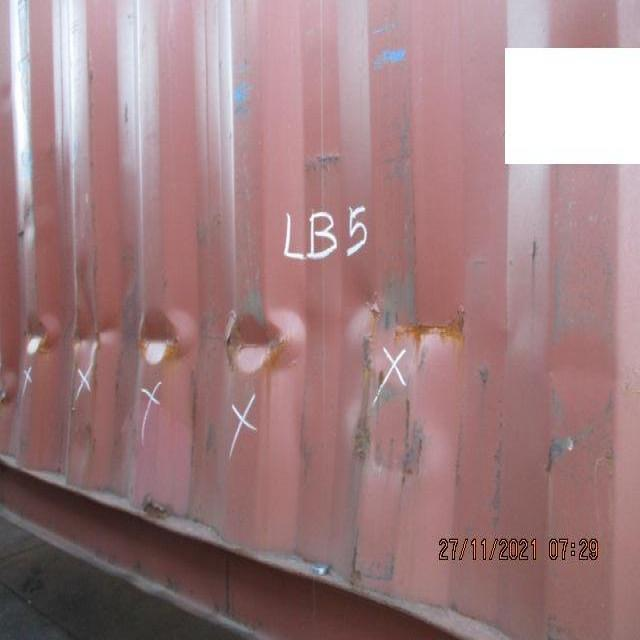Dent: (0, 245, 511, 528)
